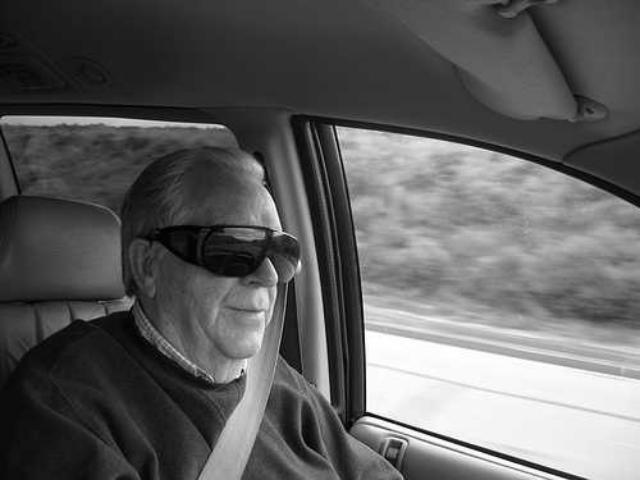Seatbelt: (195, 276, 292, 480)
